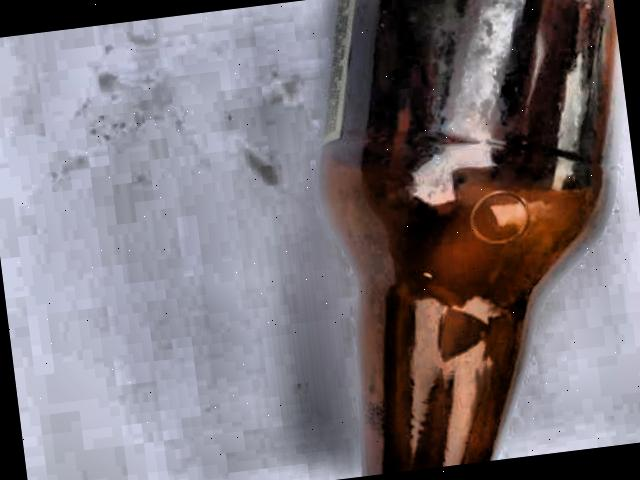Bottles: (286, 0, 640, 479)
